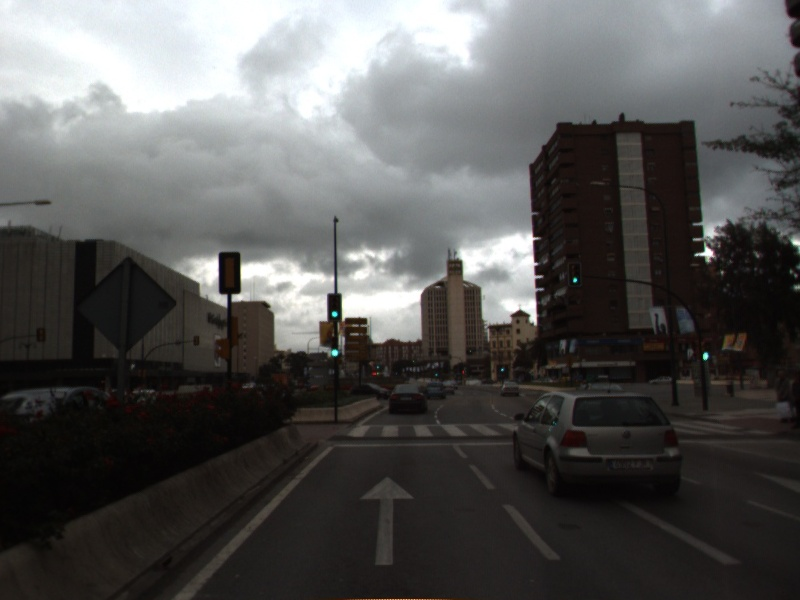STRAIGHT: (355, 471, 419, 569)
